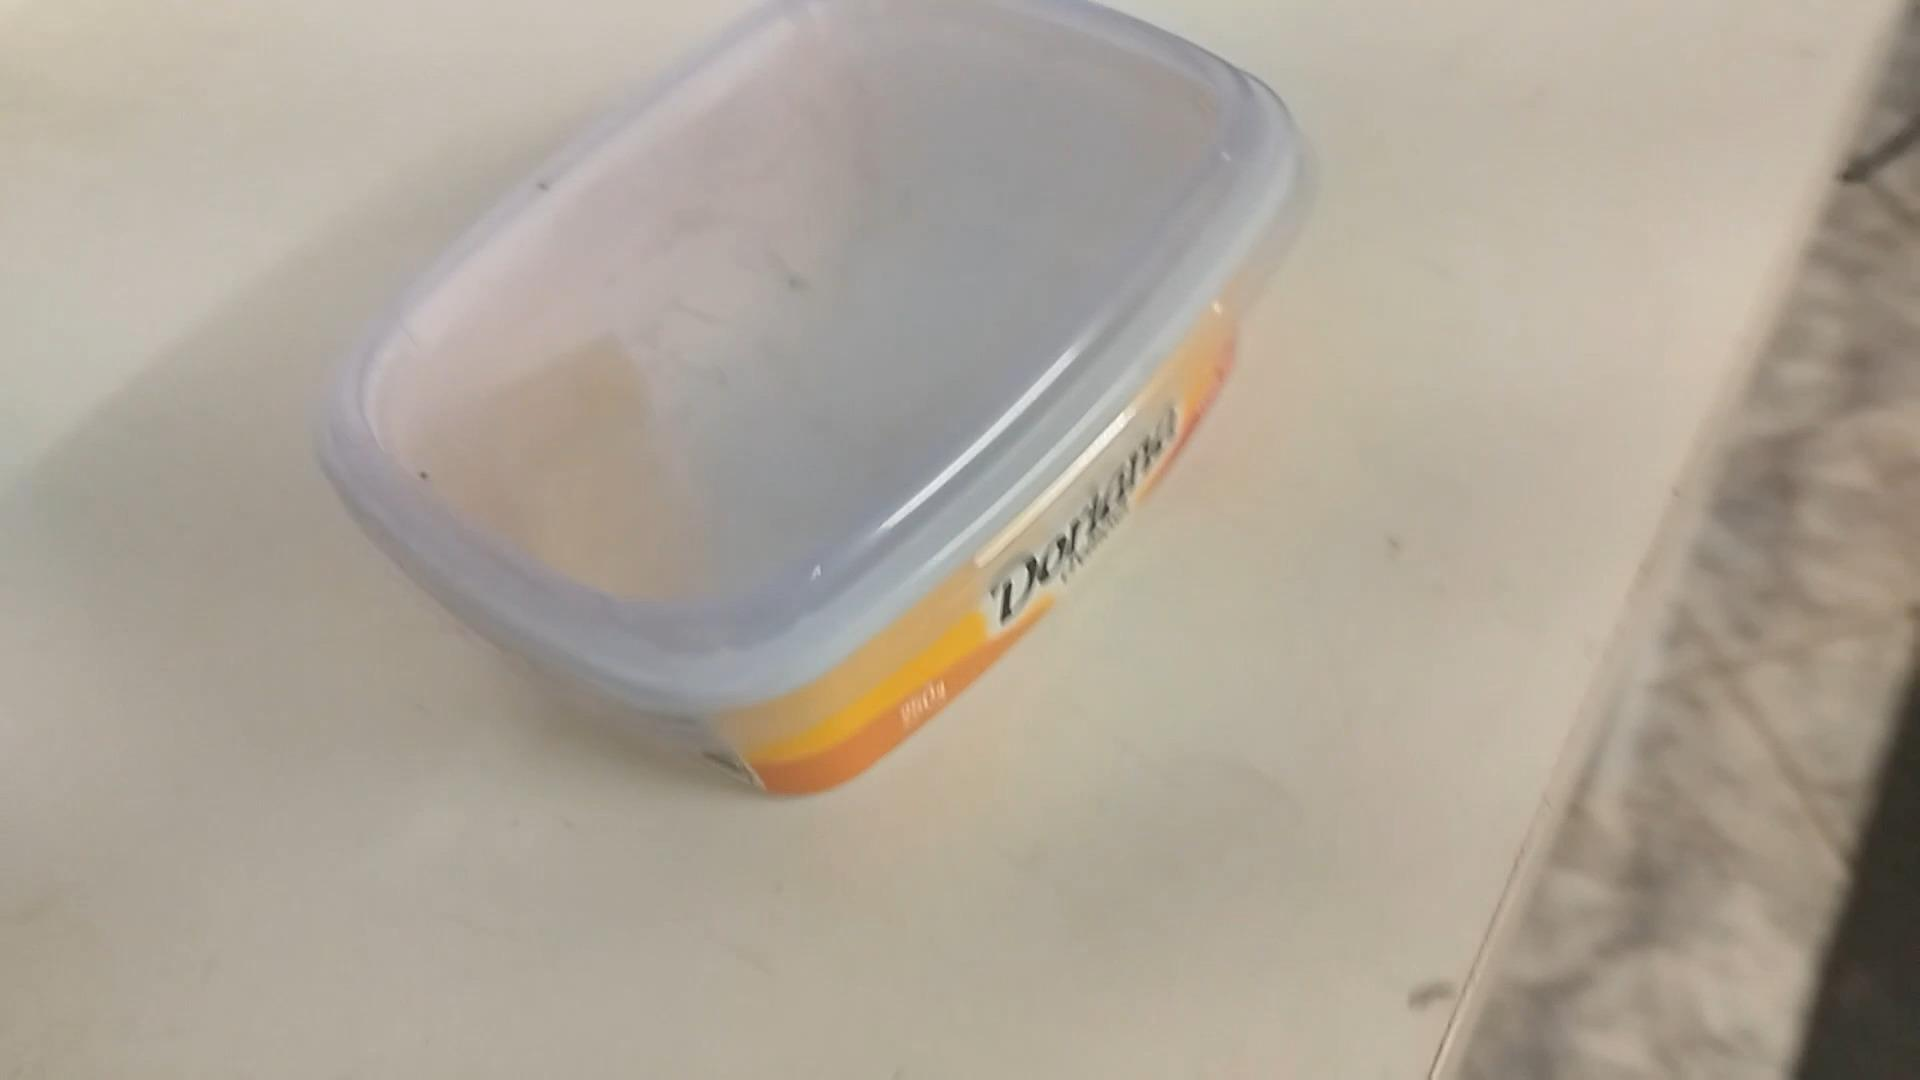butter: (316, 0, 1295, 798)
